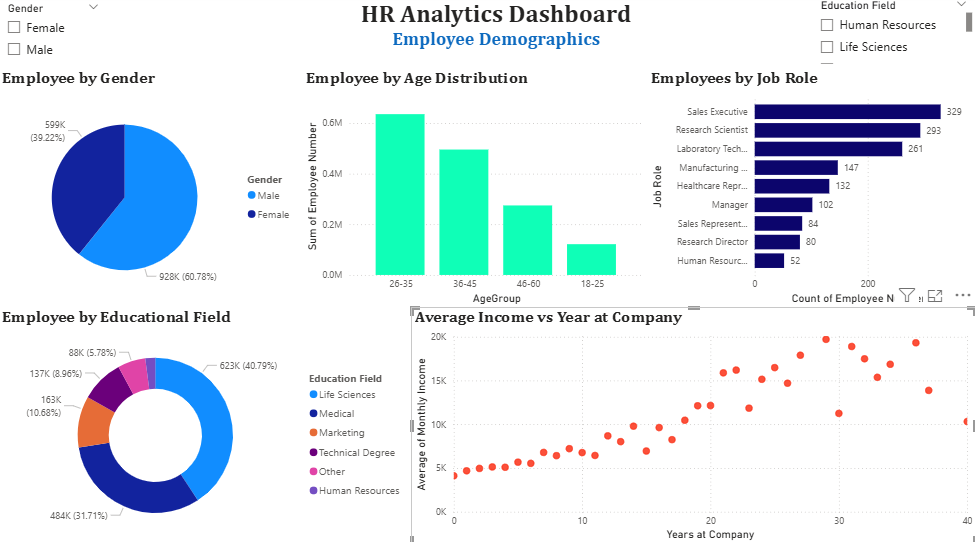

What the dashboard file says about the page in this screenshot:
{"tool":"powerbi","page":{"name":"Employee Demographics","canvas":[1280,720],"ordinal":1},"visuals":[{"type":"textbox","box":[374.4,0,555.8,95],"z":0},{"type":"pieChart","title":"Employee by Gender","fields":{"Category":["HR_Analytics.Gender"],"Y":["Sum(HR_Analytics.Employee Number)"]},"box":[0,95,397.4,313.9],"z":1000},{"type":"donutChart","title":"Employee by Educational Field","fields":{"Category":["HR_Analytics.Education Field"],"Y":["Sum(HR_Analytics.Employee Number)"]},"box":[0,409,540,311],"z":2000},{"type":"scatterChart","title":"Average Income vs Year at Company","fields":{"Y":["Avg(HR_Analytics.Monthly Income)"],"X":["HR_Analytics.Years at Company"]},"box":[540,409,740.2,311],"z":3000},{"type":"barChart","title":"Employees by Job Role","fields":{"Category":["HR_Analytics.Job Role"],"Y":["CountNonNull(HR_Analytics.Employee Number)"]},"box":[849.6,95,429.1,313.9],"z":4000},{"type":"clusteredColumnChart","title":"Employee by Age Distribution","fields":{"Y":["Sum(HR_Analytics.Employee Number)"],"Category":["HR_Analytics.AgeGroup"]},"box":[397.4,95,452.2,313.9],"z":5000},{"type":"slicer","fields":{"Values":["HR_Analytics.Gender"]},"box":[0,4.3,144,90.7],"z":6000},{"type":"slicer","fields":{"Values":["HR_Analytics.EducationField"]},"box":[1064.2,0,216,95],"z":7000}]}

Visuals, with their boxes in screenshot pixels (x1, y1, x2, y2), scaled from the page's 1280x720 canvas onto the 975x542 screenshot:
textbox: bbox=[285, 0, 709, 72]
"Employee by Gender" pieChart: bbox=[0, 72, 303, 308]
"Employee by Educational Field" donutChart: bbox=[0, 308, 411, 541]
"Average Income vs Year at Company" scatterChart: bbox=[411, 308, 974, 541]
"Employees by Job Role" barChart: bbox=[647, 72, 974, 308]
"Employee by Age Distribution" clusteredColumnChart: bbox=[303, 72, 647, 308]
slicer - HR_Analytics.Gender: bbox=[0, 3, 110, 72]
slicer - HR_Analytics.EducationField: bbox=[811, 0, 974, 72]
